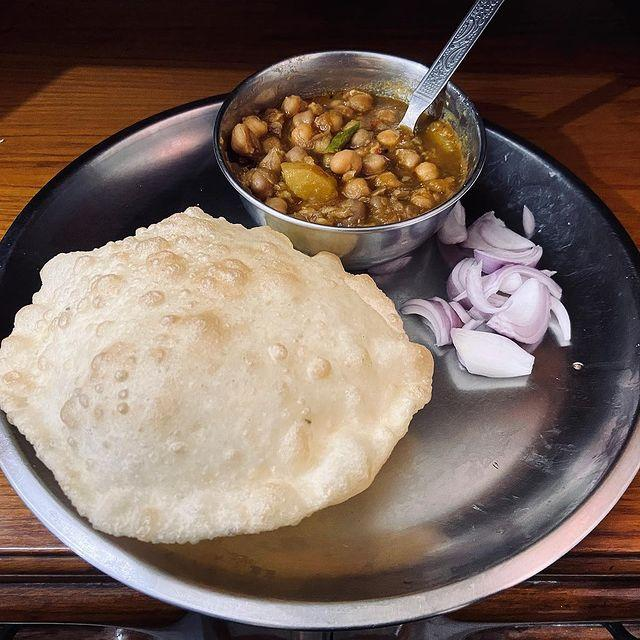Chole: (228, 76, 446, 220)
